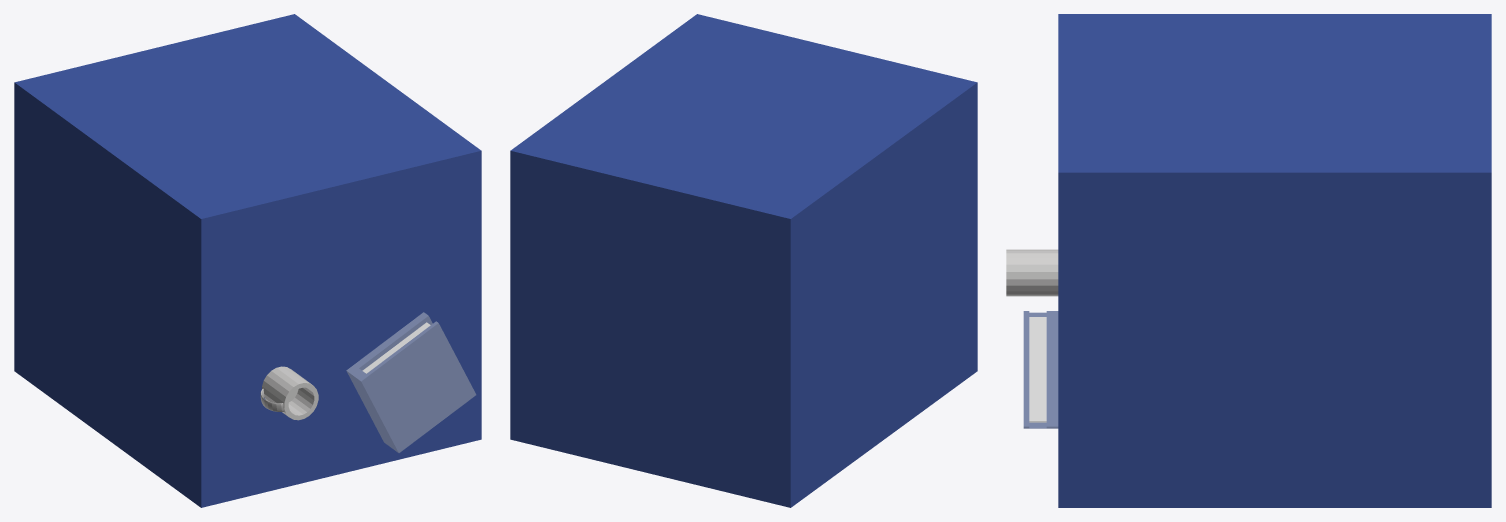
File: tinker.obj
3 renders of one model, left to right at view 1: azimuth 30°, elevation 25°; view 2: azimuth 150°, elevation 25°; view 3: azimuth 270°, elevation 25°, orthographic. The views are drawn at different scales.
Visible parts, largest first — view 1: group_0_3888547, group_0_9149124, group_0_14079444; view 2: group_0_3888547; view 3: group_0_3888547, group_0_9149124, group_0_14079444, group_0_16448250.
Boxes of the visible parts, x1,y1,x2,y2 form: group_0_3888547: [14, 14, 481, 507]; group_0_9149124: [346, 312, 476, 452]; group_0_14079444: [260, 366, 318, 420]; group_0_3888547: [510, 14, 977, 507]; group_0_3888547: [1058, 14, 1491, 507]; group_0_9149124: [1023, 311, 1058, 428]; group_0_14079444: [1006, 249, 1058, 296]; group_0_16448250: [1029, 317, 1046, 422].
Bounding box in the file's own units: 65 × 71 × 84.
